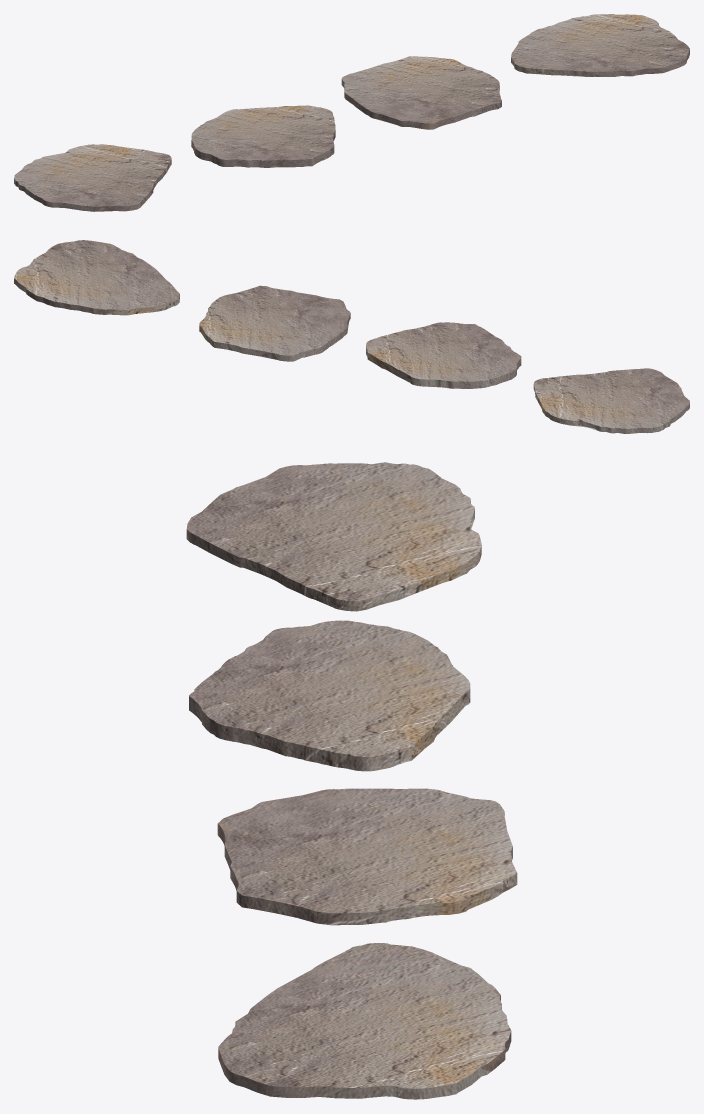
Rendered from stepping_stones.fbx.
3 views of the same model, one above another, from view 1: azimuth 30°, elevation 25°; view 2: azimuth 150°, elevation 25°; view 3: azimuth 270°, elevation 25° (orthographic). The views are drawn at different scales.
Parts seen in each view (by area): view 1: Silver_Creek_Stepping_Stones_ShapeC1, Silver_Creek_Stepping_Stone_ShapeA1, Silver_Creek_Steppers_ShapeD1, Silver_Creek_Stepping_Stone_ShapeB1; view 2: Silver_Creek_Stepping_Stones_ShapeC1, Silver_Creek_Stepping_Stone_ShapeA1, Silver_Creek_Steppers_ShapeD1, Silver_Creek_Stepping_Stone_ShapeB1; view 3: Silver_Creek_Stepping_Stones_ShapeC1, Silver_Creek_Stepping_Stone_ShapeA1, Silver_Creek_Steppers_ShapeD1, Silver_Creek_Stepping_Stone_ShapeB1.
Boxes of the visible parts, bbox=[...] form: Silver_Creek_Stepping_Stones_ShapeC1: bbox=[511, 14, 689, 76]; Silver_Creek_Stepping_Stone_ShapeA1: bbox=[341, 56, 501, 129]; Silver_Creek_Steppers_ShapeD1: bbox=[14, 144, 171, 211]; Silver_Creek_Stepping_Stone_ShapeB1: bbox=[191, 105, 335, 167]; Silver_Creek_Stepping_Stones_ShapeC1: bbox=[14, 240, 179, 315]; Silver_Creek_Stepping_Stone_ShapeA1: bbox=[199, 285, 350, 361]; Silver_Creek_Steppers_ShapeD1: bbox=[533, 368, 689, 433]; Silver_Creek_Stepping_Stone_ShapeB1: bbox=[366, 322, 521, 388]; Silver_Creek_Stepping_Stones_ShapeC1: bbox=[218, 943, 511, 1099]; Silver_Creek_Stepping_Stone_ShapeA1: bbox=[217, 788, 517, 925]; Silver_Creek_Steppers_ShapeD1: bbox=[186, 462, 481, 611]; Silver_Creek_Stepping_Stone_ShapeB1: bbox=[189, 620, 470, 771].
Bounding box in the file's own units: 124 × 1.32 × 27.62.
